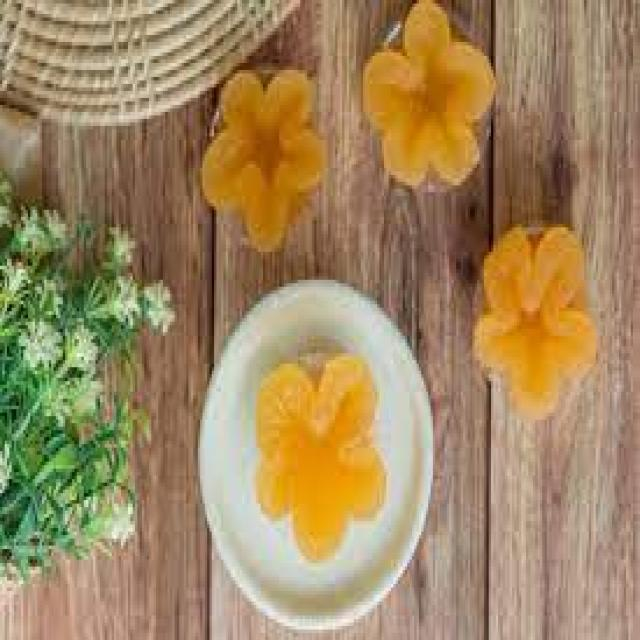Tongyib: (248, 344, 394, 578), (348, 0, 506, 207), (467, 207, 605, 440), (197, 63, 334, 258)
